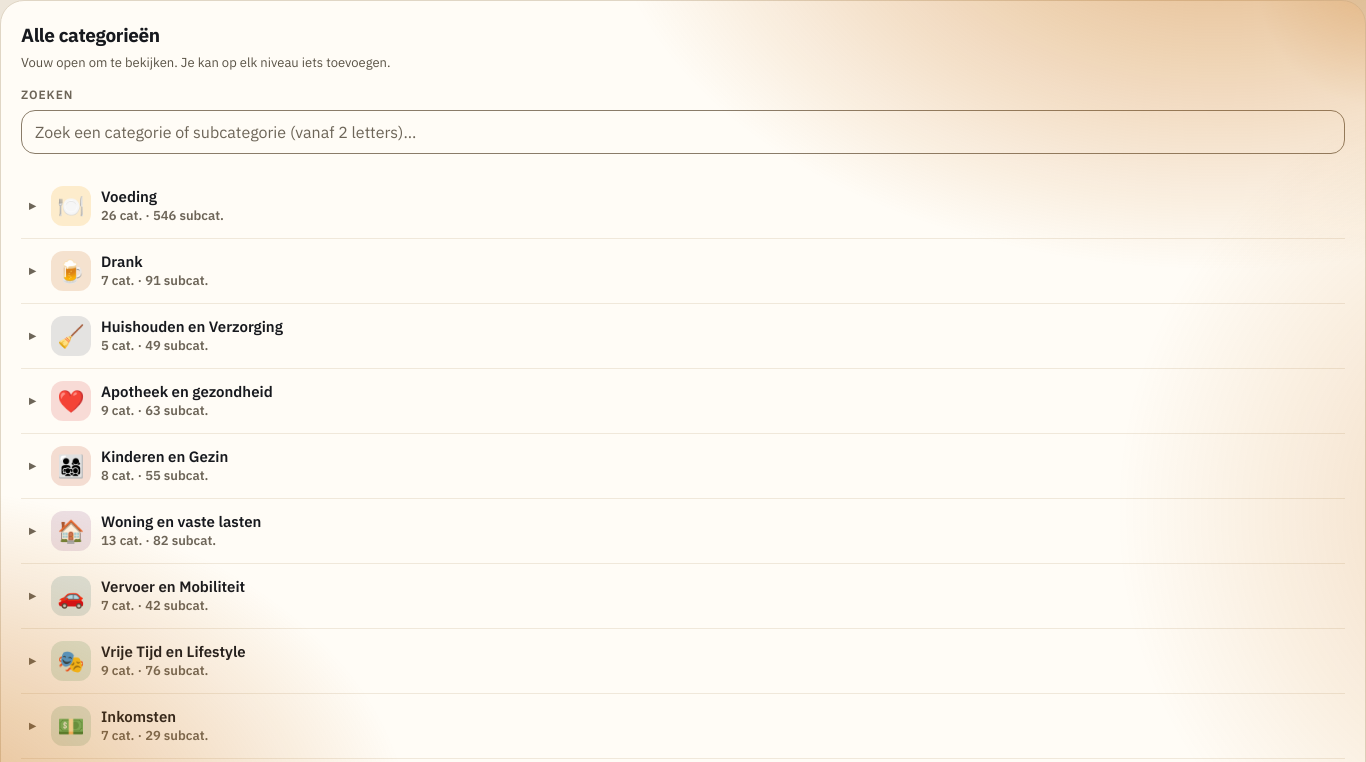
Test case: CategorieBoom — zoeken › zegt hoeveel er gevonden is, en zegt het ook wanneer er niets is
The width and height of the screenshot is (1366, 762).
In the search field labelled "Zoeken": (683, 132) 21,110 -> 1345,154, type "brood"
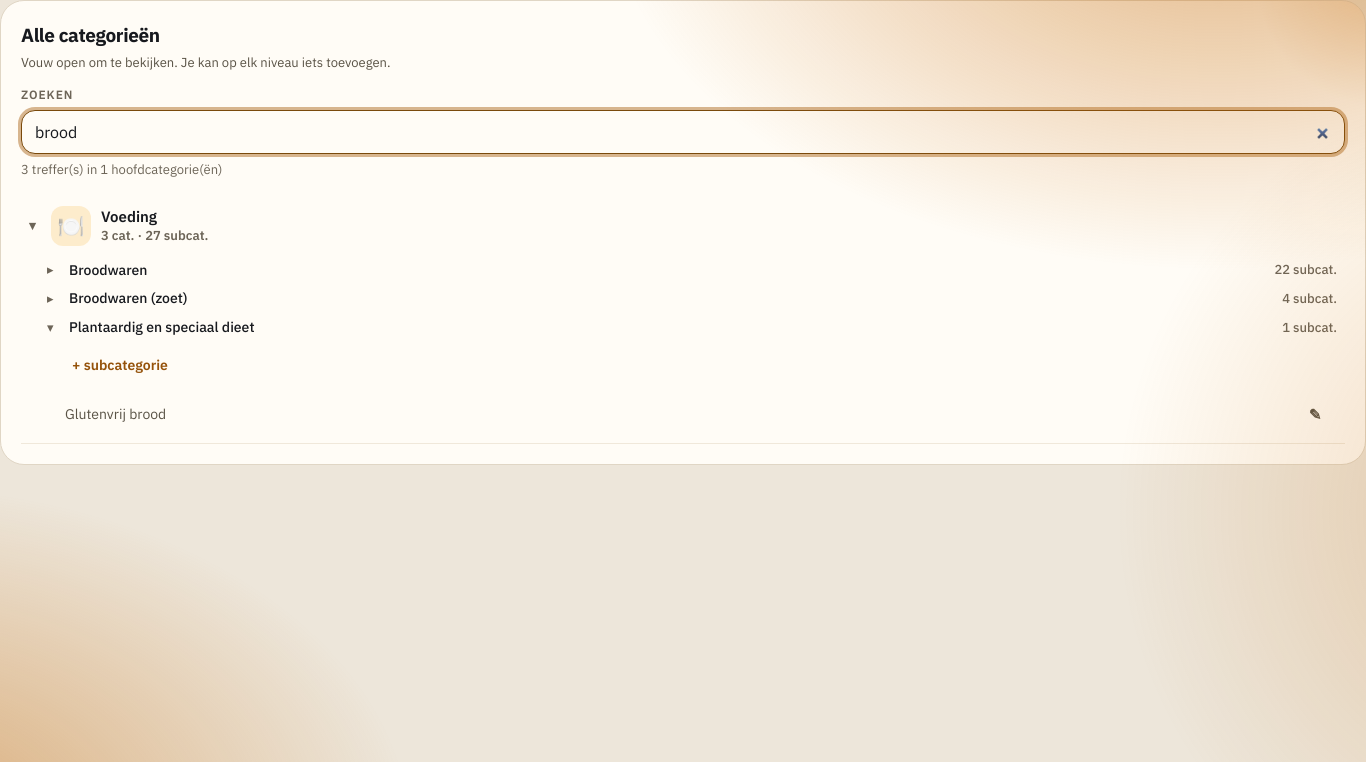
Result: the message shows "treffer" at 21,161 -> 222,178
Replace the text in the search field labelled "Zoeken" with "zzzzzz": (683, 132) 21,110 -> 1345,154
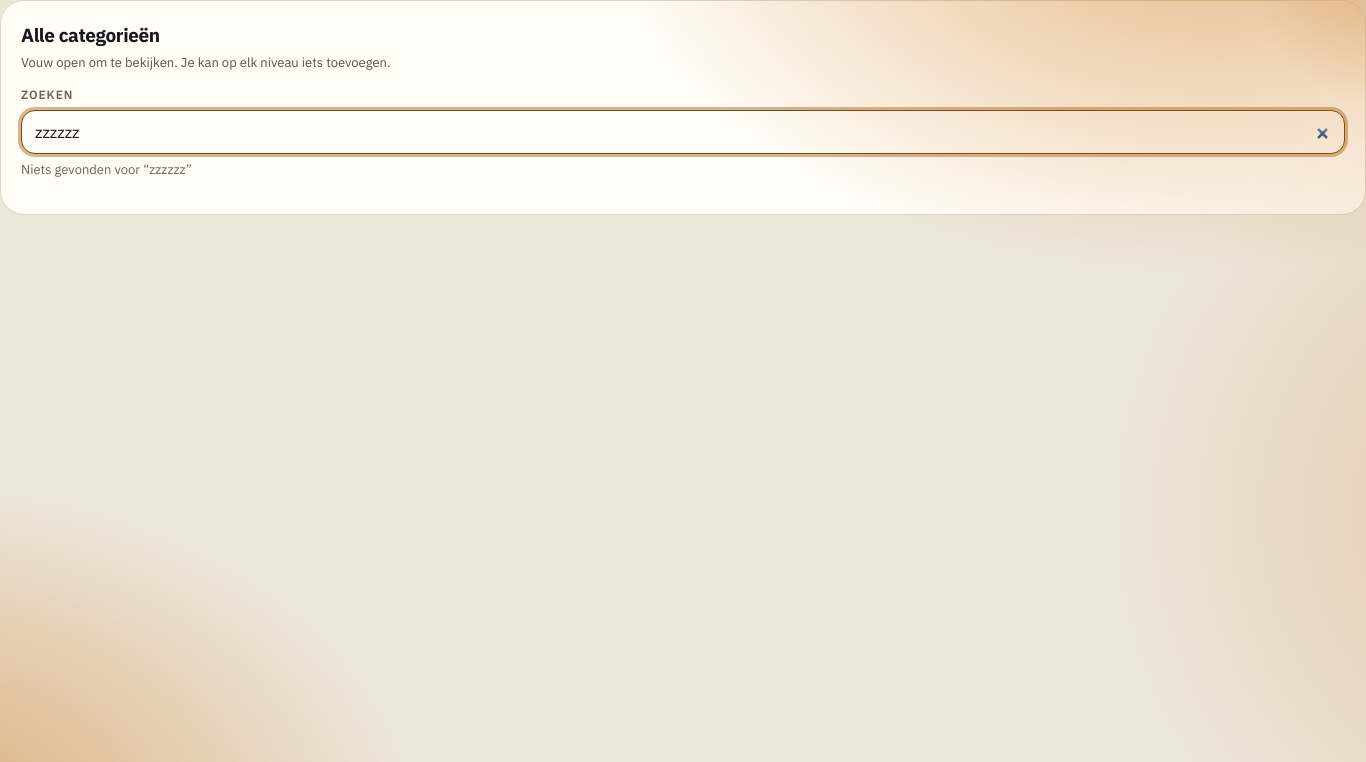
Result: the message shows "Niets gevonden voor" at 21,161 -> 192,178
